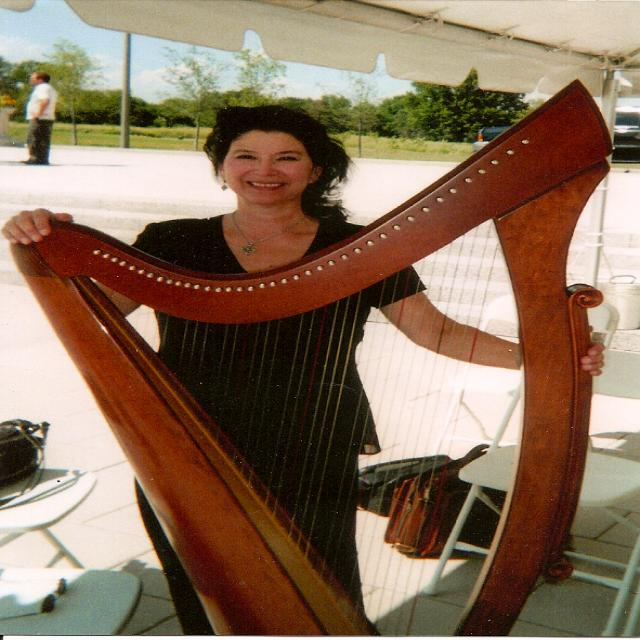harp: (10, 77, 619, 640)
